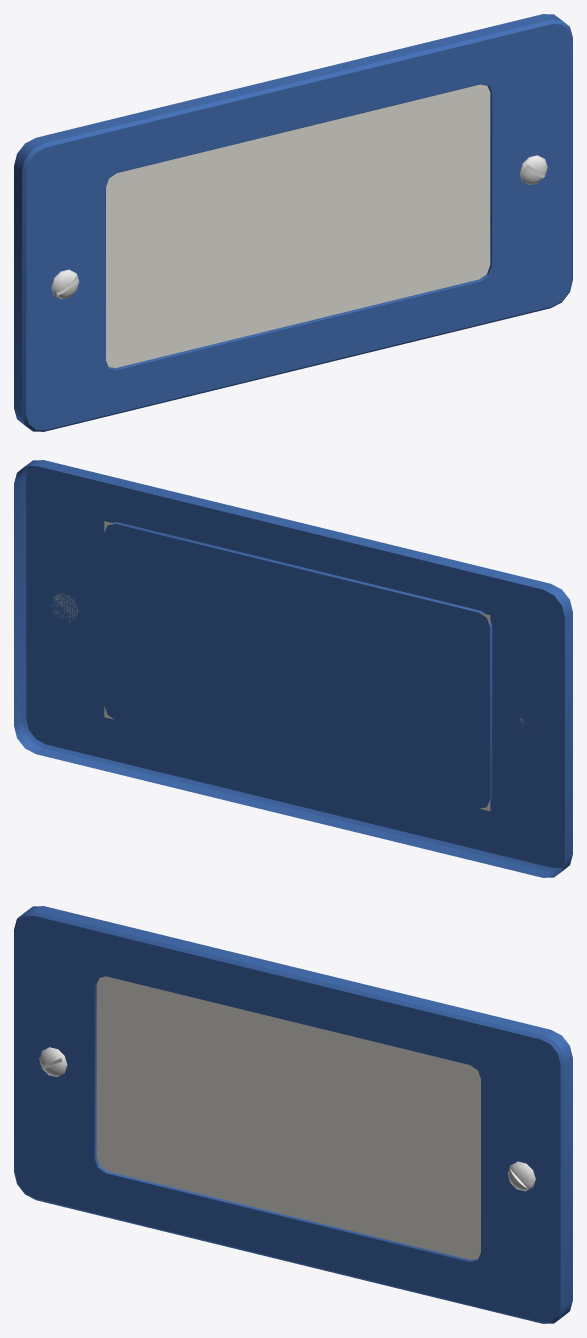
Rendered from Kit_DoorNumberPlate_Blue.fbx.
The picture shows the model from 3 angles, top to bottom: view 1: azimuth 30°, elevation 25°; view 2: azimuth 150°, elevation 25°; view 3: azimuth 330°, elevation 25°; orthographic projection.
Visible parts, largest first — view 1: Kit_DoorNumberPlate_LOD0; view 2: Kit_DoorNumberPlate_LOD0; view 3: Kit_DoorNumberPlate_LOD0.
Part boxes in pixels (bbox=[...]): Kit_DoorNumberPlate_LOD0: bbox=[14, 14, 572, 431]; Kit_DoorNumberPlate_LOD0: bbox=[14, 460, 572, 877]; Kit_DoorNumberPlate_LOD0: bbox=[14, 906, 572, 1323].
Size of what is drawn, in the model's own units: 0.1 by 0.05 by 0.00424.
